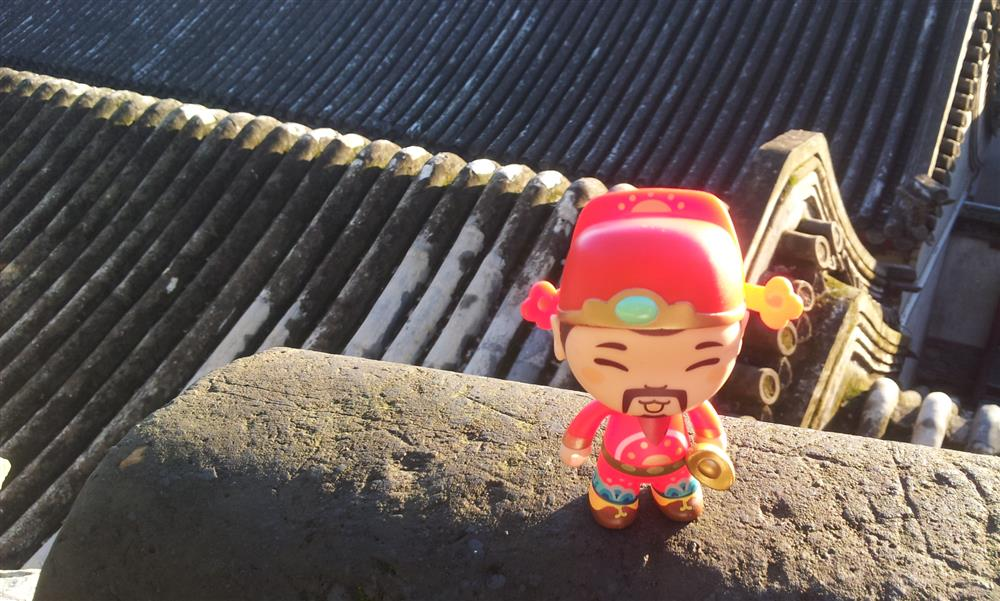god_of_fortune: (521, 187, 812, 528)
